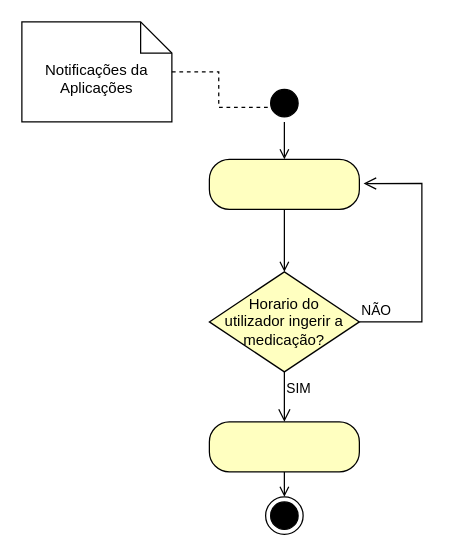
Some shapes in this 456 by 556 pixel diagram are drawn without their labels. The centre of each missing label's shape, as x and y in pixels:
"Aplicação valida medicação a tomar pelo utilizador" belongs at point (283, 183).
"Enviar Notificação para o utilizador" belongs at point (283, 446).
